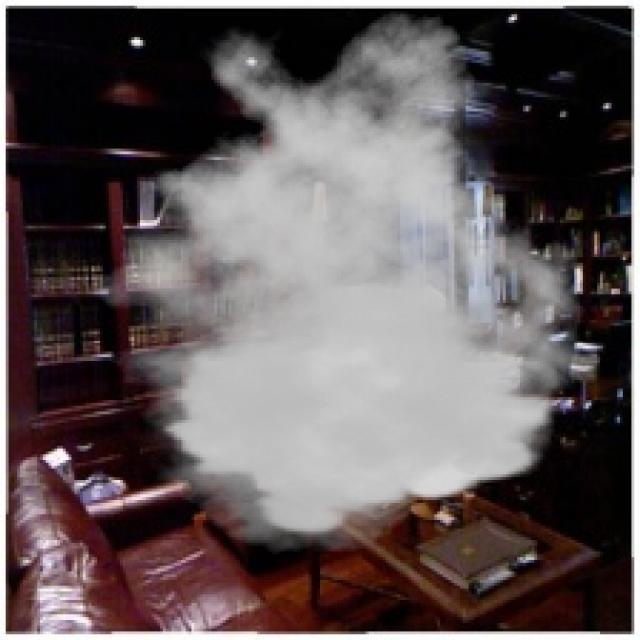Smoke: (60, 8, 609, 554)
